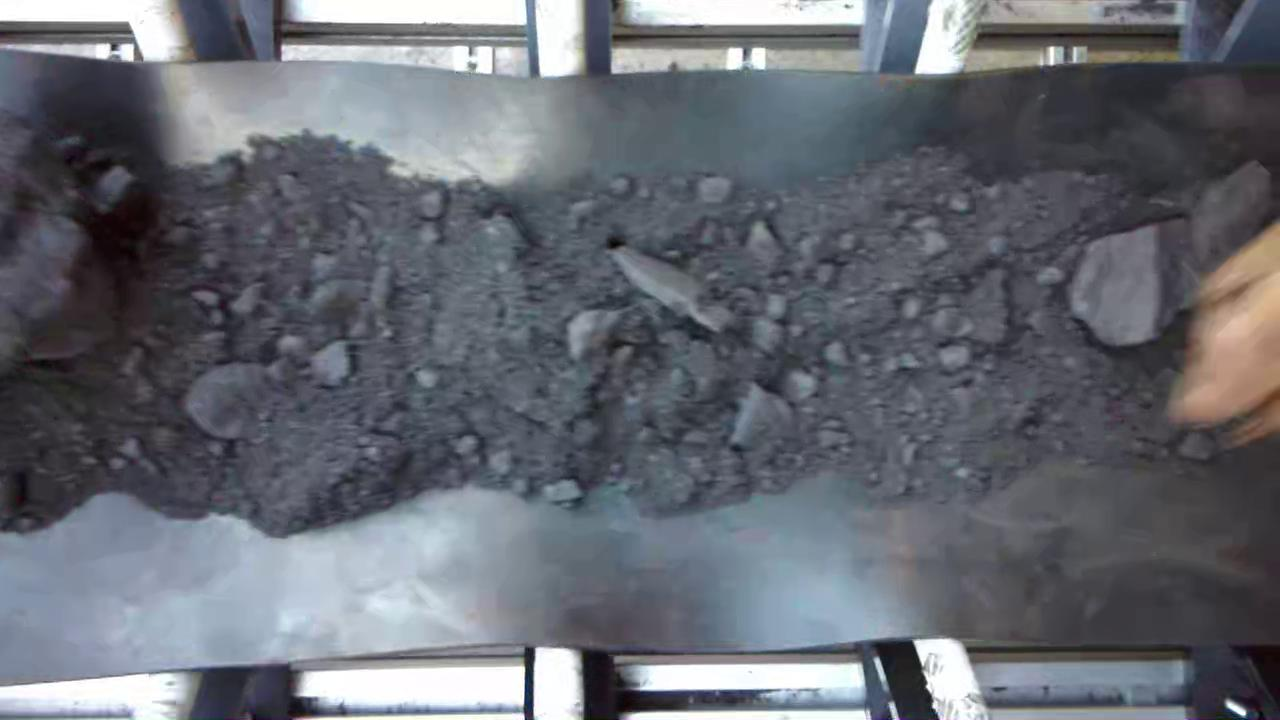conveyor: (5, 77, 1280, 636)
